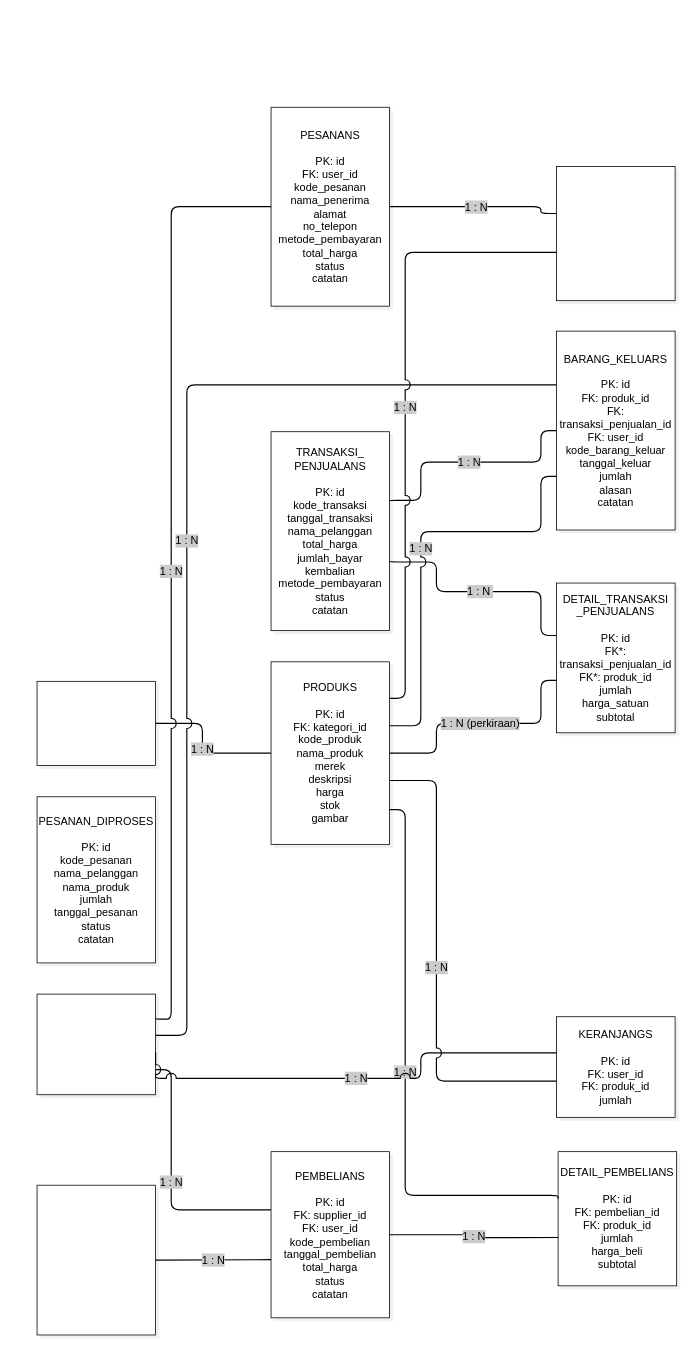
The diagram is 693 pixels wide and 1352 high, and some of its shapes have lost their labels. Each missing label, with the centre of its shape:
"DETAIL_PESANANS PK: id FK: pesanan_id FK: produk_id jumlah harga_satuan subtotal" goes at pixel 617 235.
"KATEGORIS PK: id nama_kategori deskripsi" goes at pixel 97 725.
"SUPPLIERS PK: id kode_supplier nama_supplier nama_kontak telepon alamat email" goes at pixel 97 1261.
"USERS PK: id name email role" goes at pixel 97 1045.
